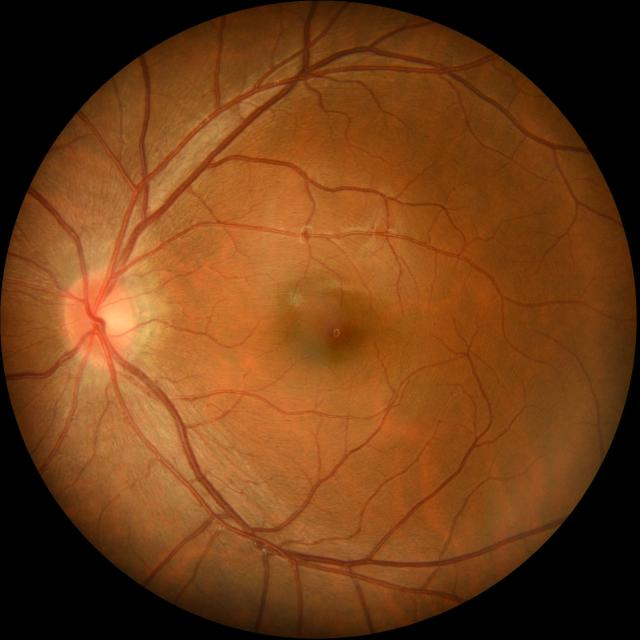OC: (98, 301, 128, 334)
OD: (62, 271, 138, 366)
